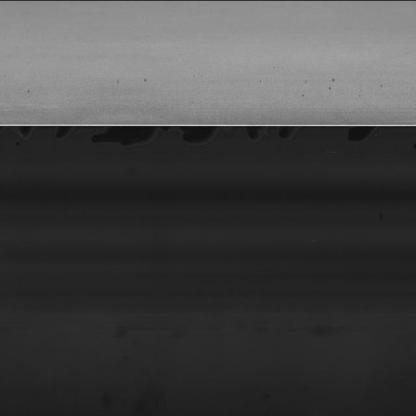inclusion: (323, 76, 339, 90), (138, 76, 154, 84)
